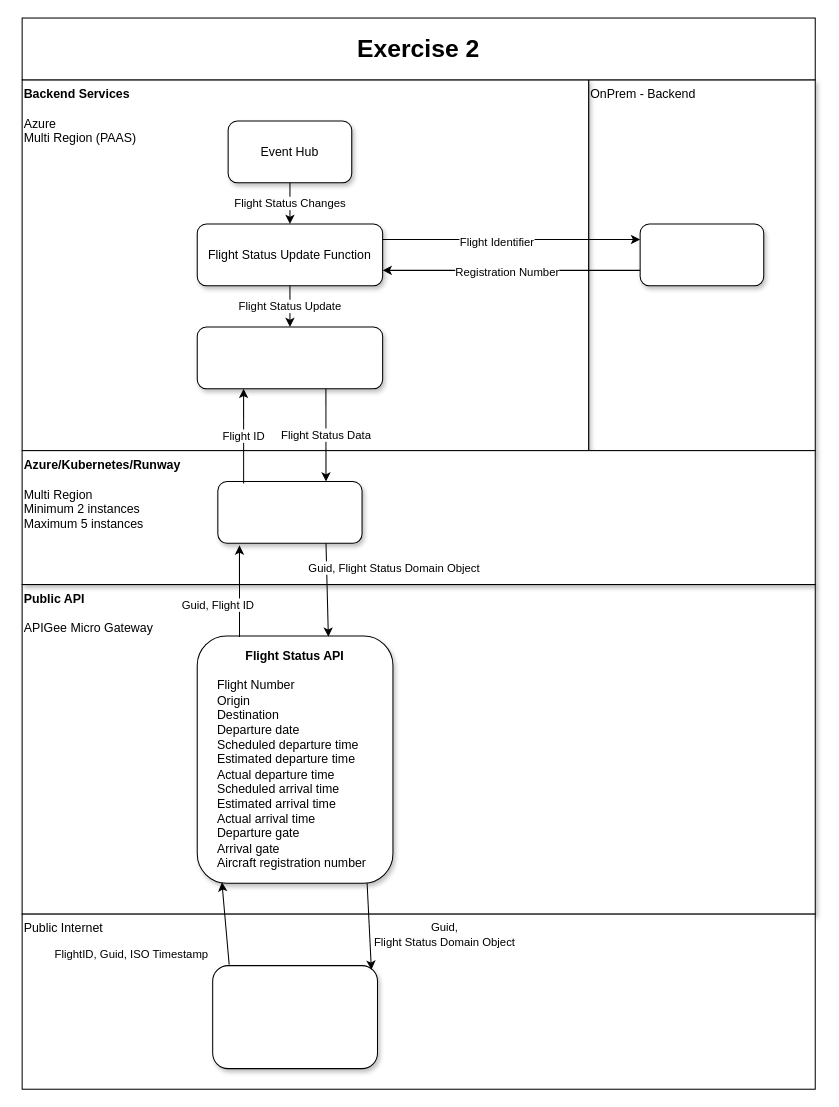
This 839x1107 diagram has some shape labels left out. Each missing label, with the centre of its shape:
"Aircraft Registration Service" goes at [702,256].
"Client Request Message Signature Transaction Id GUID DateTimeStamp" goes at [296,1018].
"Cosmos Flight Status DB" goes at [290,359].
"Flight Status Domain Service" goes at [290,513].
